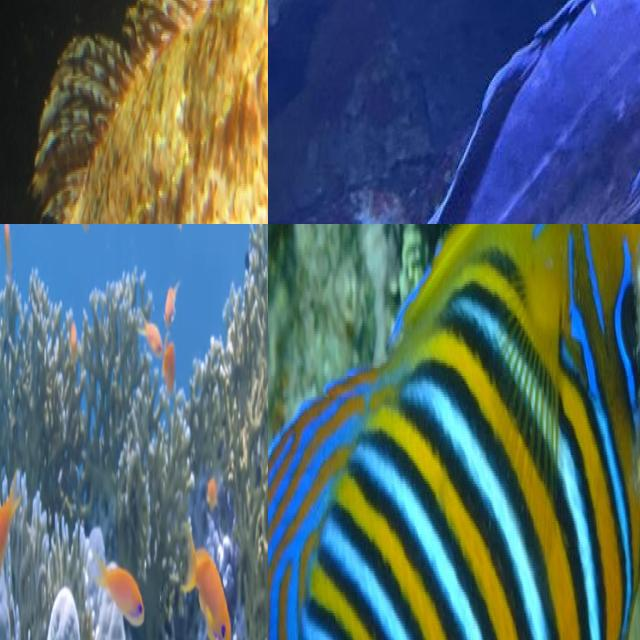fish: (268, 224, 640, 640), (268, 0, 640, 224), (0, 0, 268, 224), (0, 461, 268, 640)
